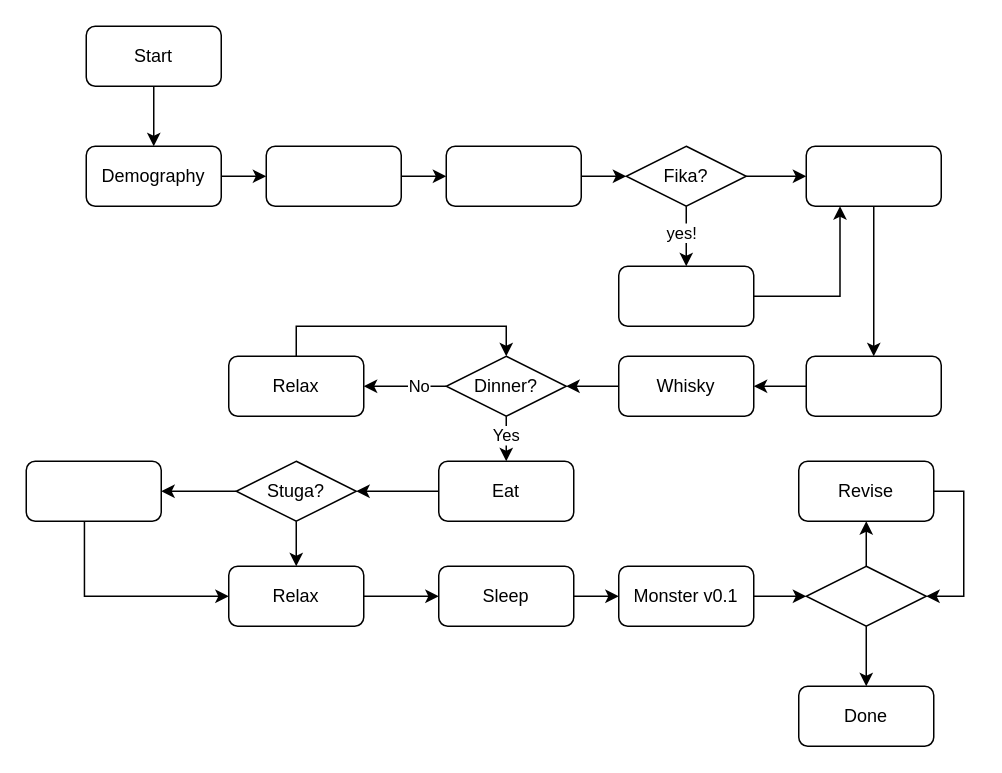
This 1002x773 diagram has some shape labels left out. Each missing label, with the centre of its shape:
"Culture information" goes at [873,175].
"Culture note" goes at [873,385].
"Fika!" goes at [685,295].
"Geography" goes at [333,175].
"Politics" goes at [513,175].
"Revise?" goes at [865,595].
"Stuga" goes at [93,490].
